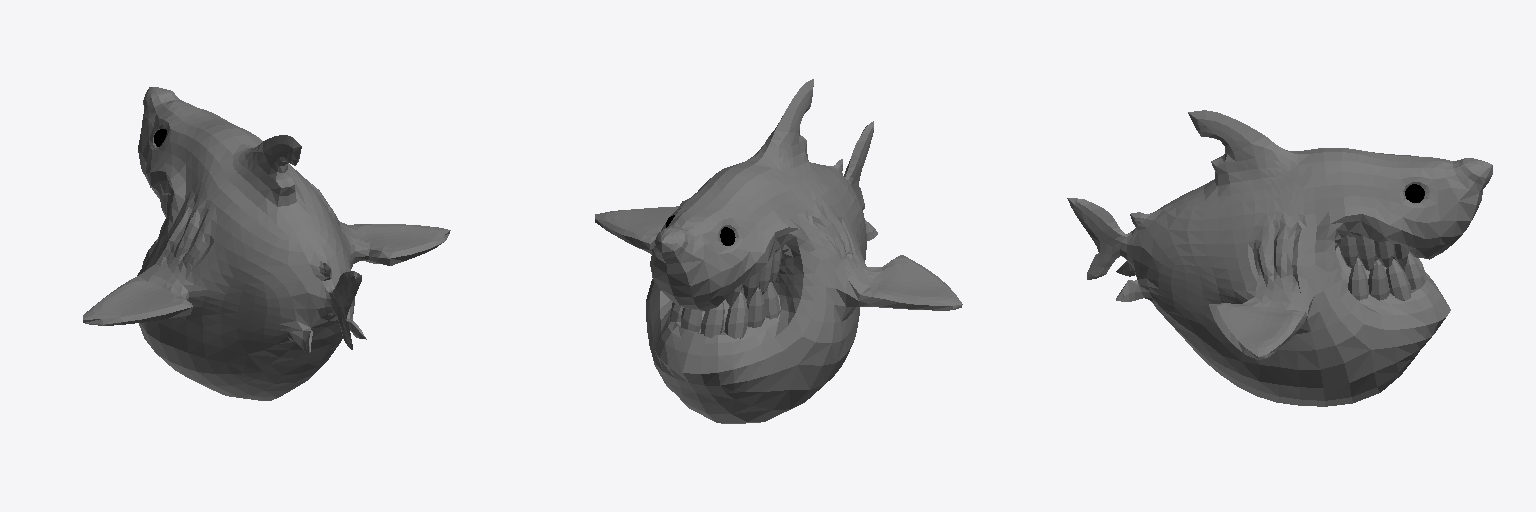
The model's file is scruffySharkCombinedBodyMat.obj.
The picture shows the model from 3 angles: view 1: azimuth 30°, elevation 25°; view 2: azimuth 150°, elevation 25°; view 3: azimuth 270°, elevation 25°; orthographic projection.
Visible parts, largest first — view 1: body_GEO Geometry ScruffyShark; view 2: body_GEO Geometry ScruffyShark, Geometry ScruffyShark teeth_GEO tooth_bottom_2_L_GEO, Geometry ScruffyShark tooth_bottom_1_L_GEO teeth_GEO, Geometry ScruffyShark teeth_GEO tooth_bottom_3_L_GEO; view 3: body_GEO Geometry ScruffyShark, Geometry ScruffyShark teeth_GEO tooth_bottom_2_R_GEO, Geometry ScruffyShark teeth_GEO tooth_bottom_3_R_GEO, Geometry ScruffyShark teeth_GEO tooth_bottom_4_R_GEO.
Boxes of the visible parts, box(x1,y1,x2,y2) form: body_GEO Geometry ScruffyShark: box(83, 87, 450, 400); body_GEO Geometry ScruffyShark: box(595, 79, 962, 423); Geometry ScruffyShark teeth_GEO tooth_bottom_2_L_GEO: box(725, 292, 747, 338); Geometry ScruffyShark tooth_bottom_1_L_GEO teeth_GEO: box(700, 302, 724, 337); Geometry ScruffyShark teeth_GEO tooth_bottom_3_L_GEO: box(746, 287, 764, 327); body_GEO Geometry ScruffyShark: box(1067, 110, 1492, 406); Geometry ScruffyShark teeth_GEO tooth_bottom_2_R_GEO: box(1386, 259, 1411, 300); Geometry ScruffyShark teeth_GEO tooth_bottom_3_R_GEO: box(1368, 260, 1389, 300); Geometry ScruffyShark teeth_GEO tooth_bottom_4_R_GEO: box(1348, 260, 1368, 300).
Size of the model in its own units: 2.74 by 2.07 by 2.74.